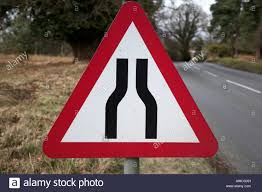narrow-road: (102, 53, 162, 143)
